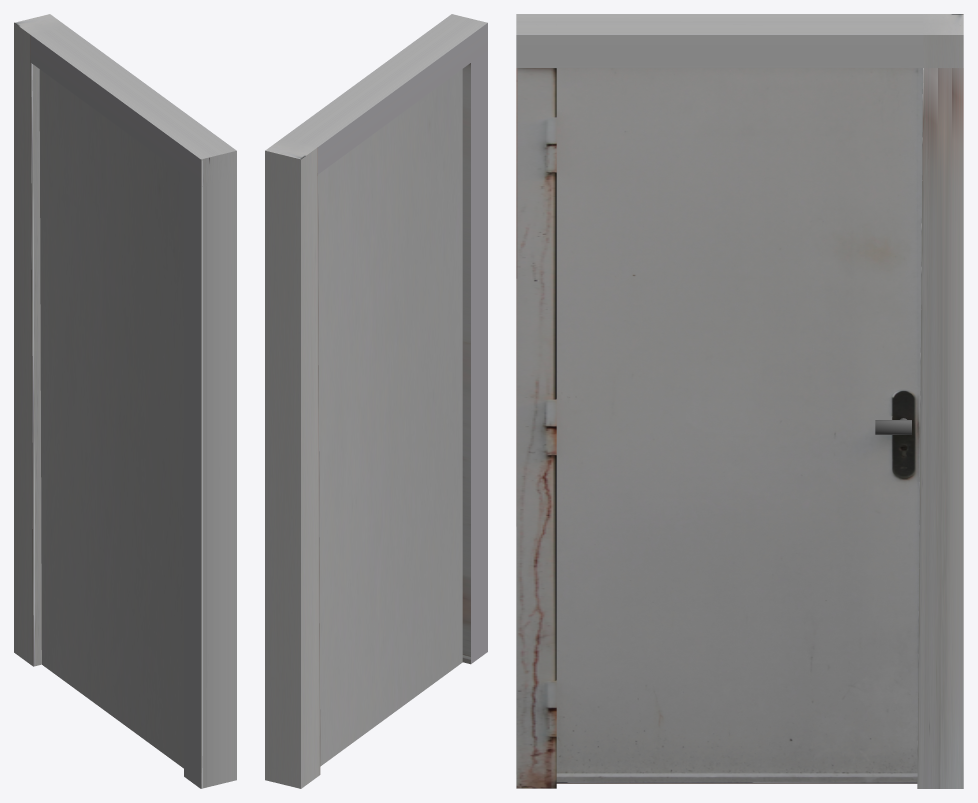
The model's file is Door1.fbx.
3 renders of one model, left to right at view 1: azimuth 30°, elevation 25°; view 2: azimuth 150°, elevation 25°; view 3: azimuth 270°, elevation 25°, orthographic. The views are drawn at different scales.
Parts seen in each view (by area): view 1: Cube.001, Cube.002; view 2: Cube.001, Cube.002; view 3: Cube.001, Cube.002.
Boxes of the visible parts, box(x1,y1,x2,y2) form: Cube.001: box(39, 69, 183, 768); Cube.002: box(14, 14, 236, 788); Cube.001: box(318, 69, 462, 766); Cube.002: box(265, 14, 487, 788); Cube.001: box(556, 68, 922, 783); Cube.002: box(516, 14, 963, 788).
Bounding box in the file's own units: 50.97 × 748 × 402.
